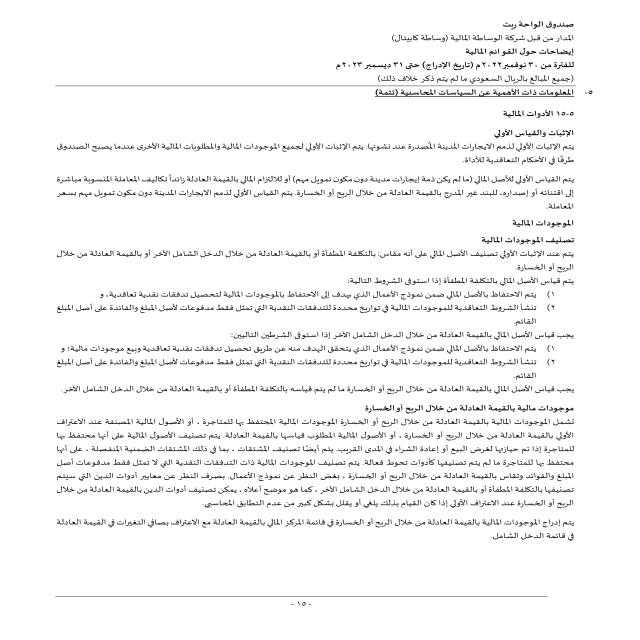notes: (432, 46, 584, 57)
text: (29, 104, 584, 568)
